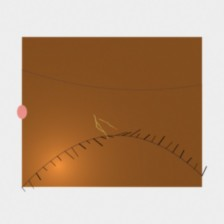corneal_ulcer: (79, 97, 124, 133)
